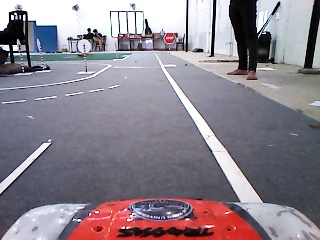stop: (162, 32, 177, 44)
